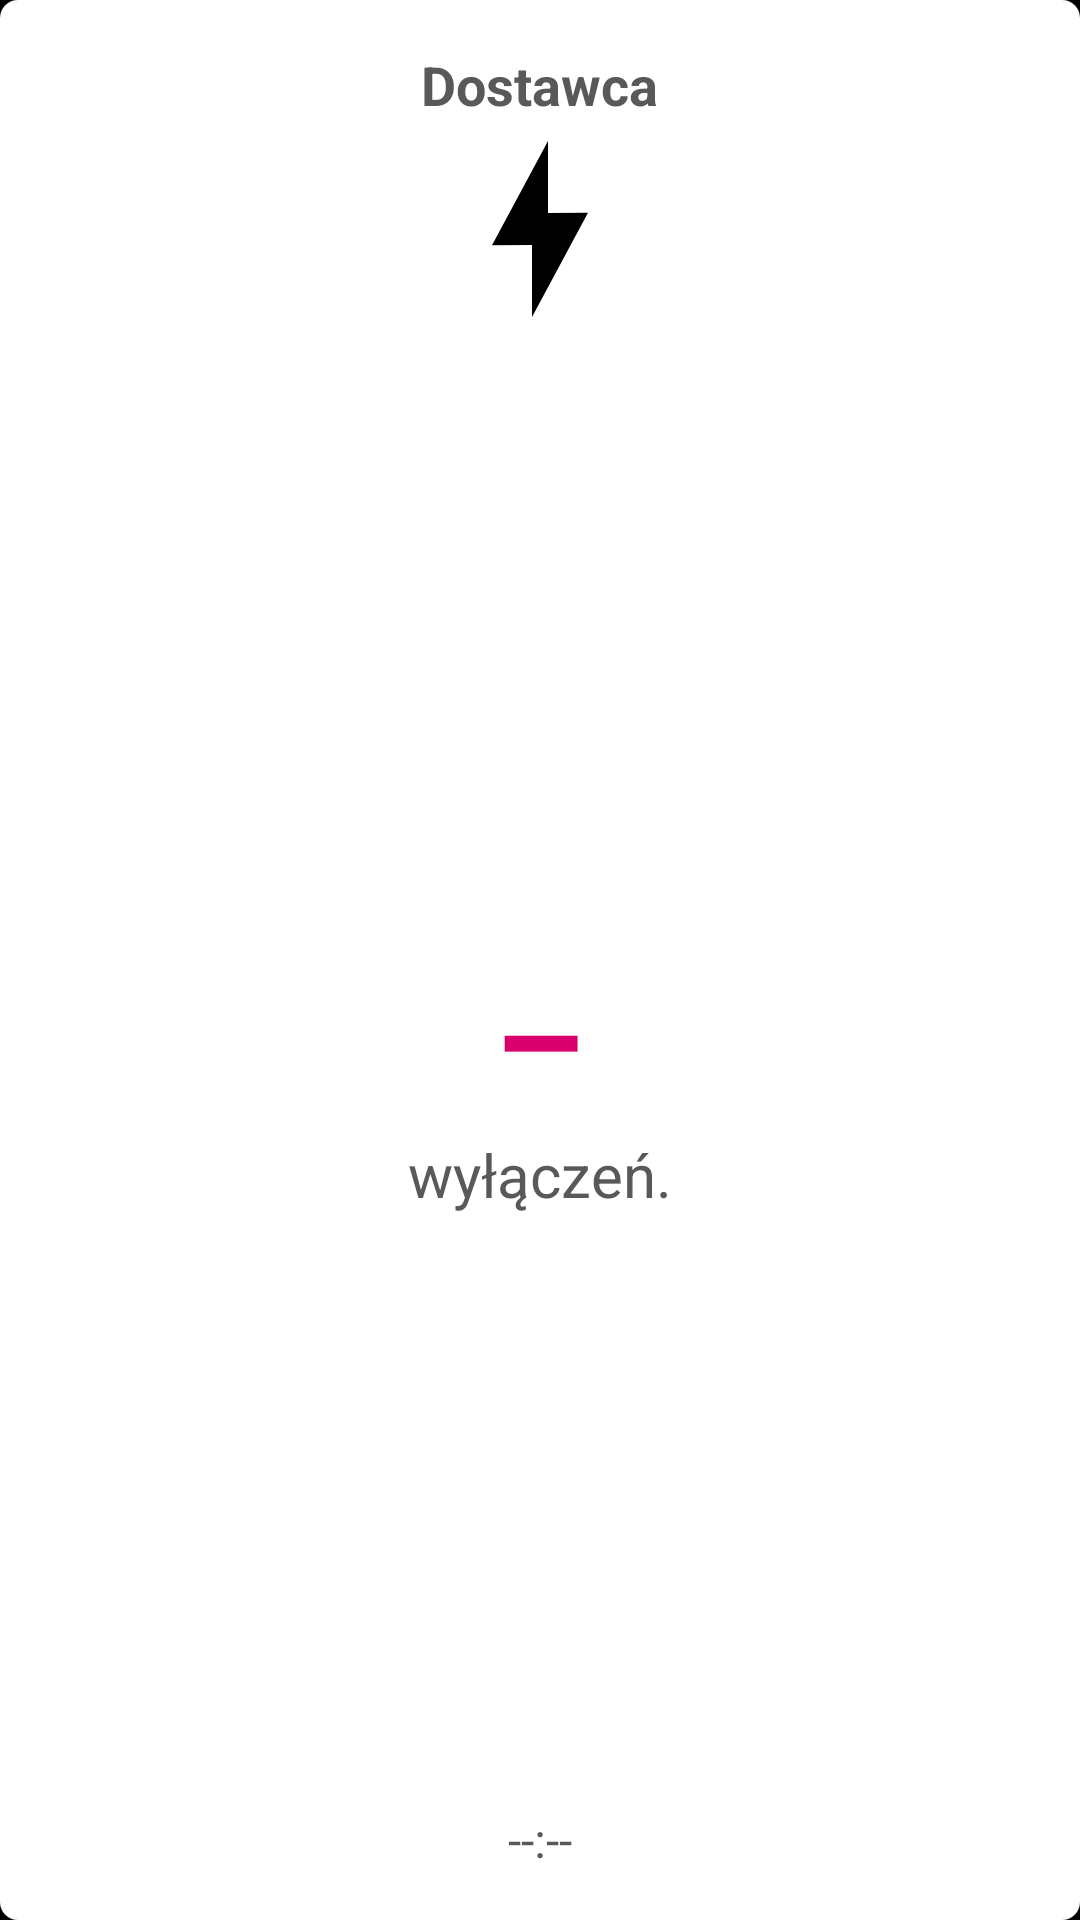

Where icons sit on this 1080 × 1920 app screen, as bbox=[x1, y1, x2, y2]:
ikona: bbox=[492, 141, 588, 317]
